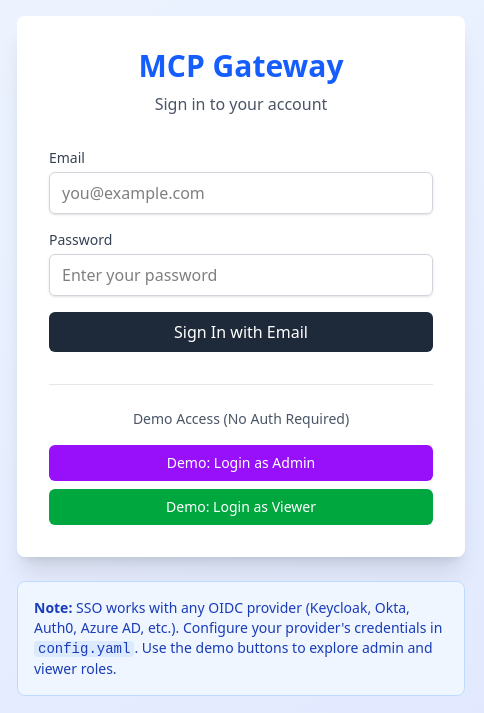
Scenario: LoginView › email login › shows loading state during login
In the field with placeholder "you@example.com": x=241, y=193 x1=49 y1=172 x2=433 y2=214, type "test@example.com"
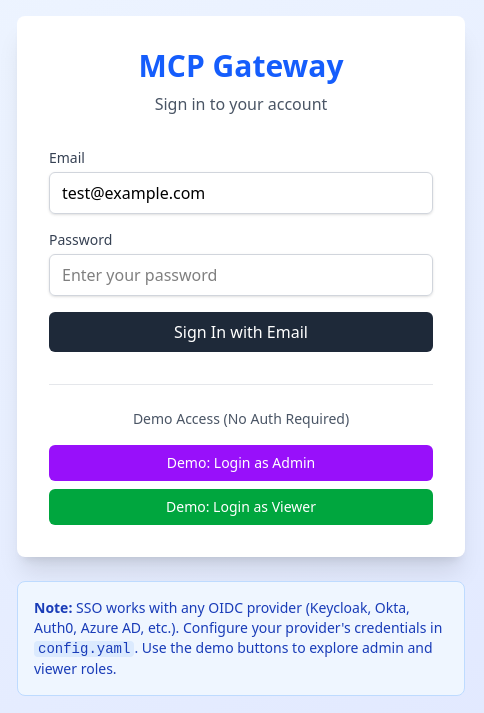
In the password field with placeholder "Enter your password": x=241, y=275 x1=49 y1=254 x2=433 y2=296, type "password123"
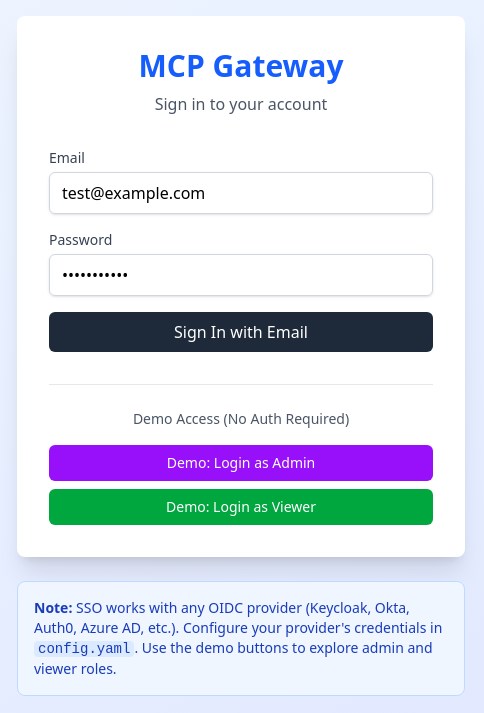
Submit the form, box x1=49 y1=148 x2=433 y2=352
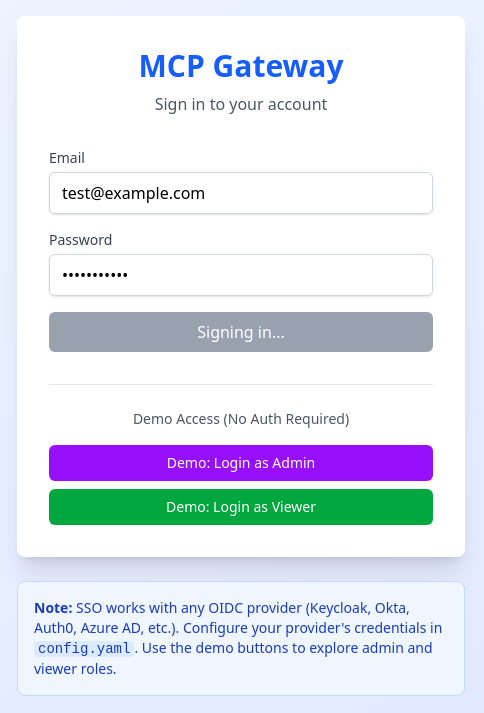
Now the submit button reads "Signing in...", box x1=49 y1=312 x2=433 y2=352
